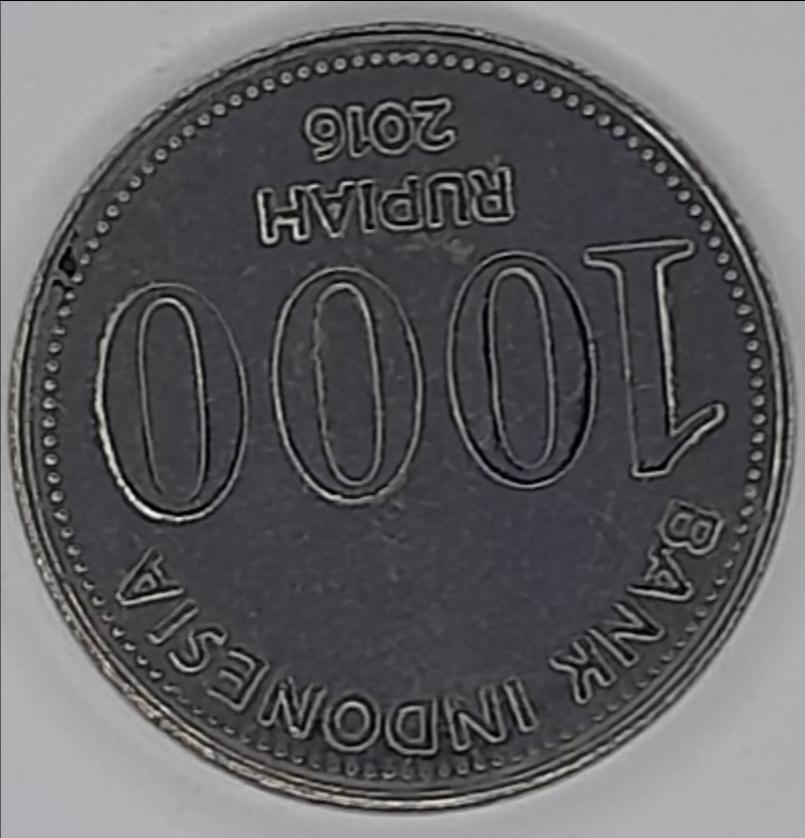coin_1000_e2016: (14, 17, 794, 838)
